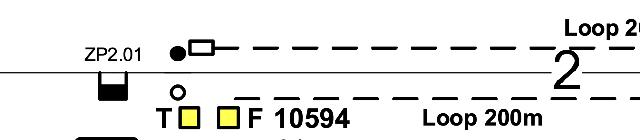radzaehler: (91, 70, 145, 104)
tracknumber: (546, 49, 588, 97)
